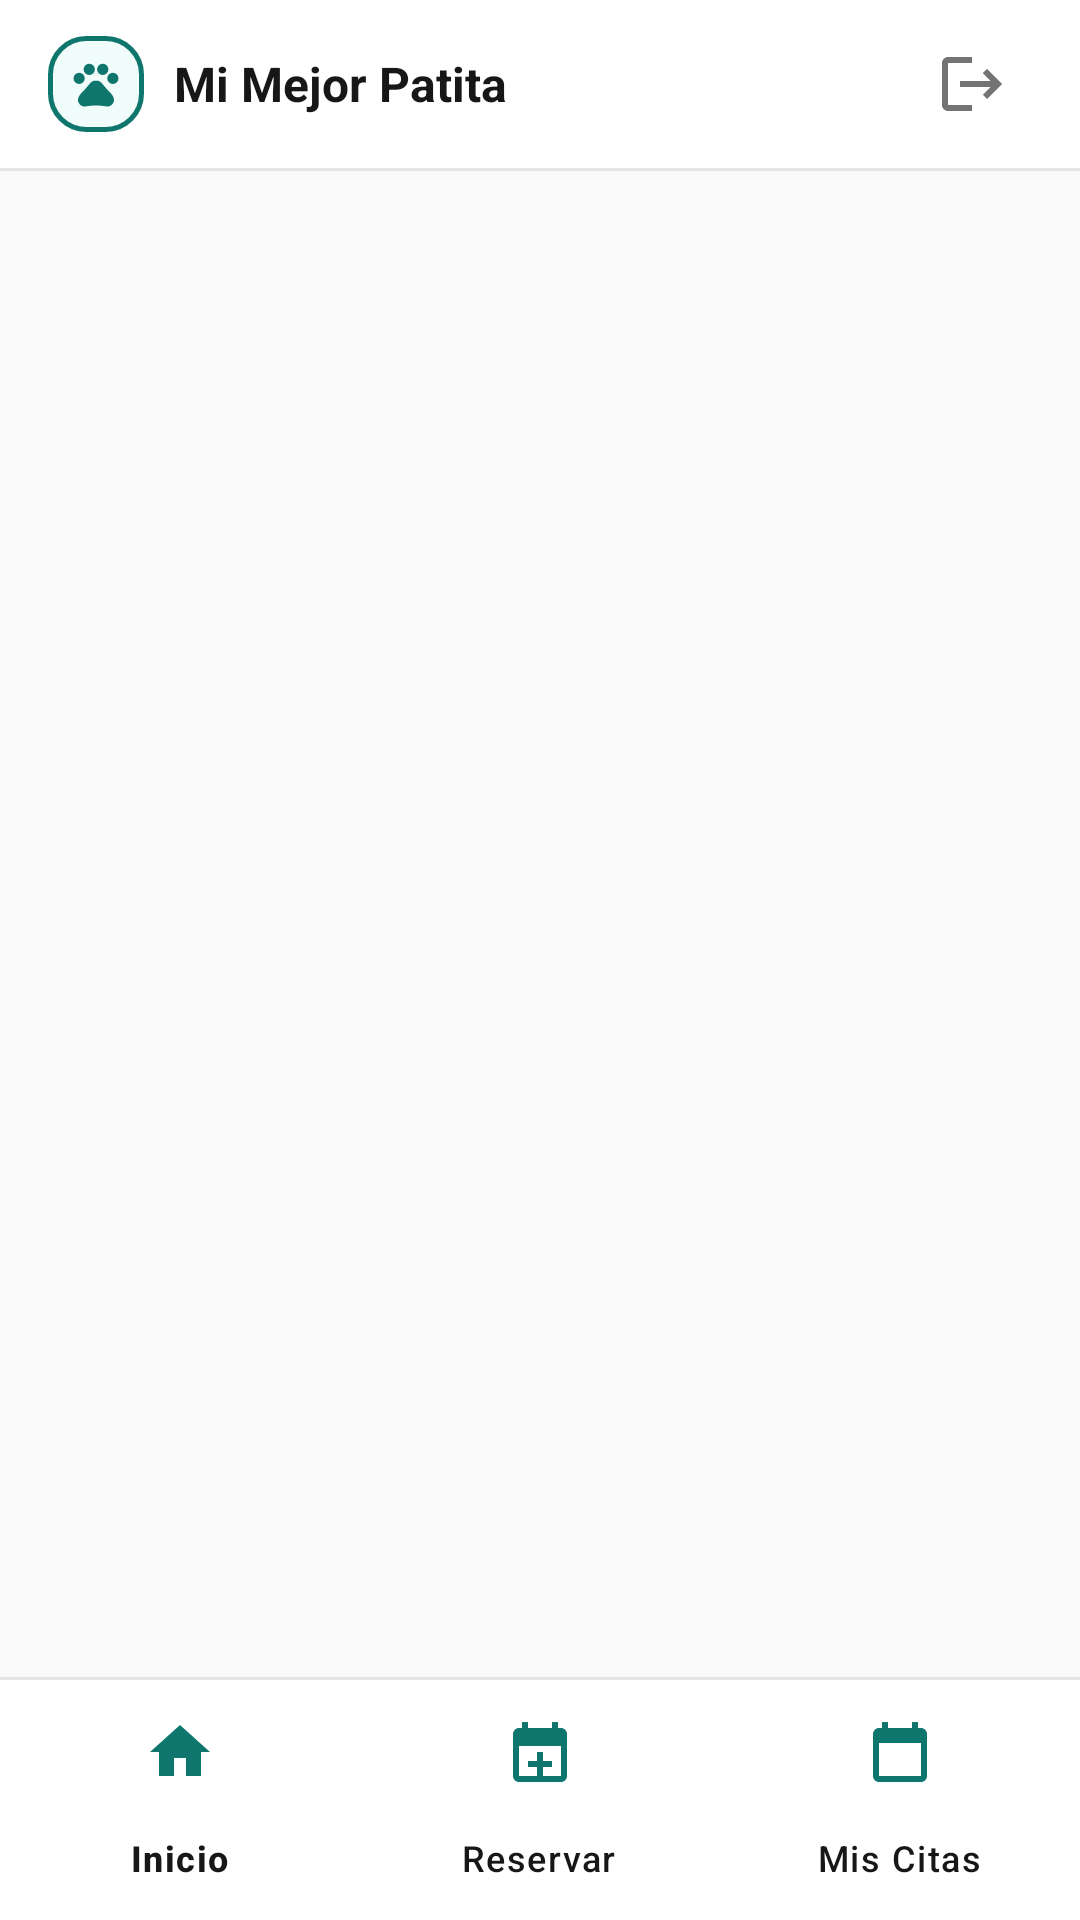

Screen size 1080px x 1920px. Icon name, then its center in pixels as [x,y]:
paw: [96,84]
